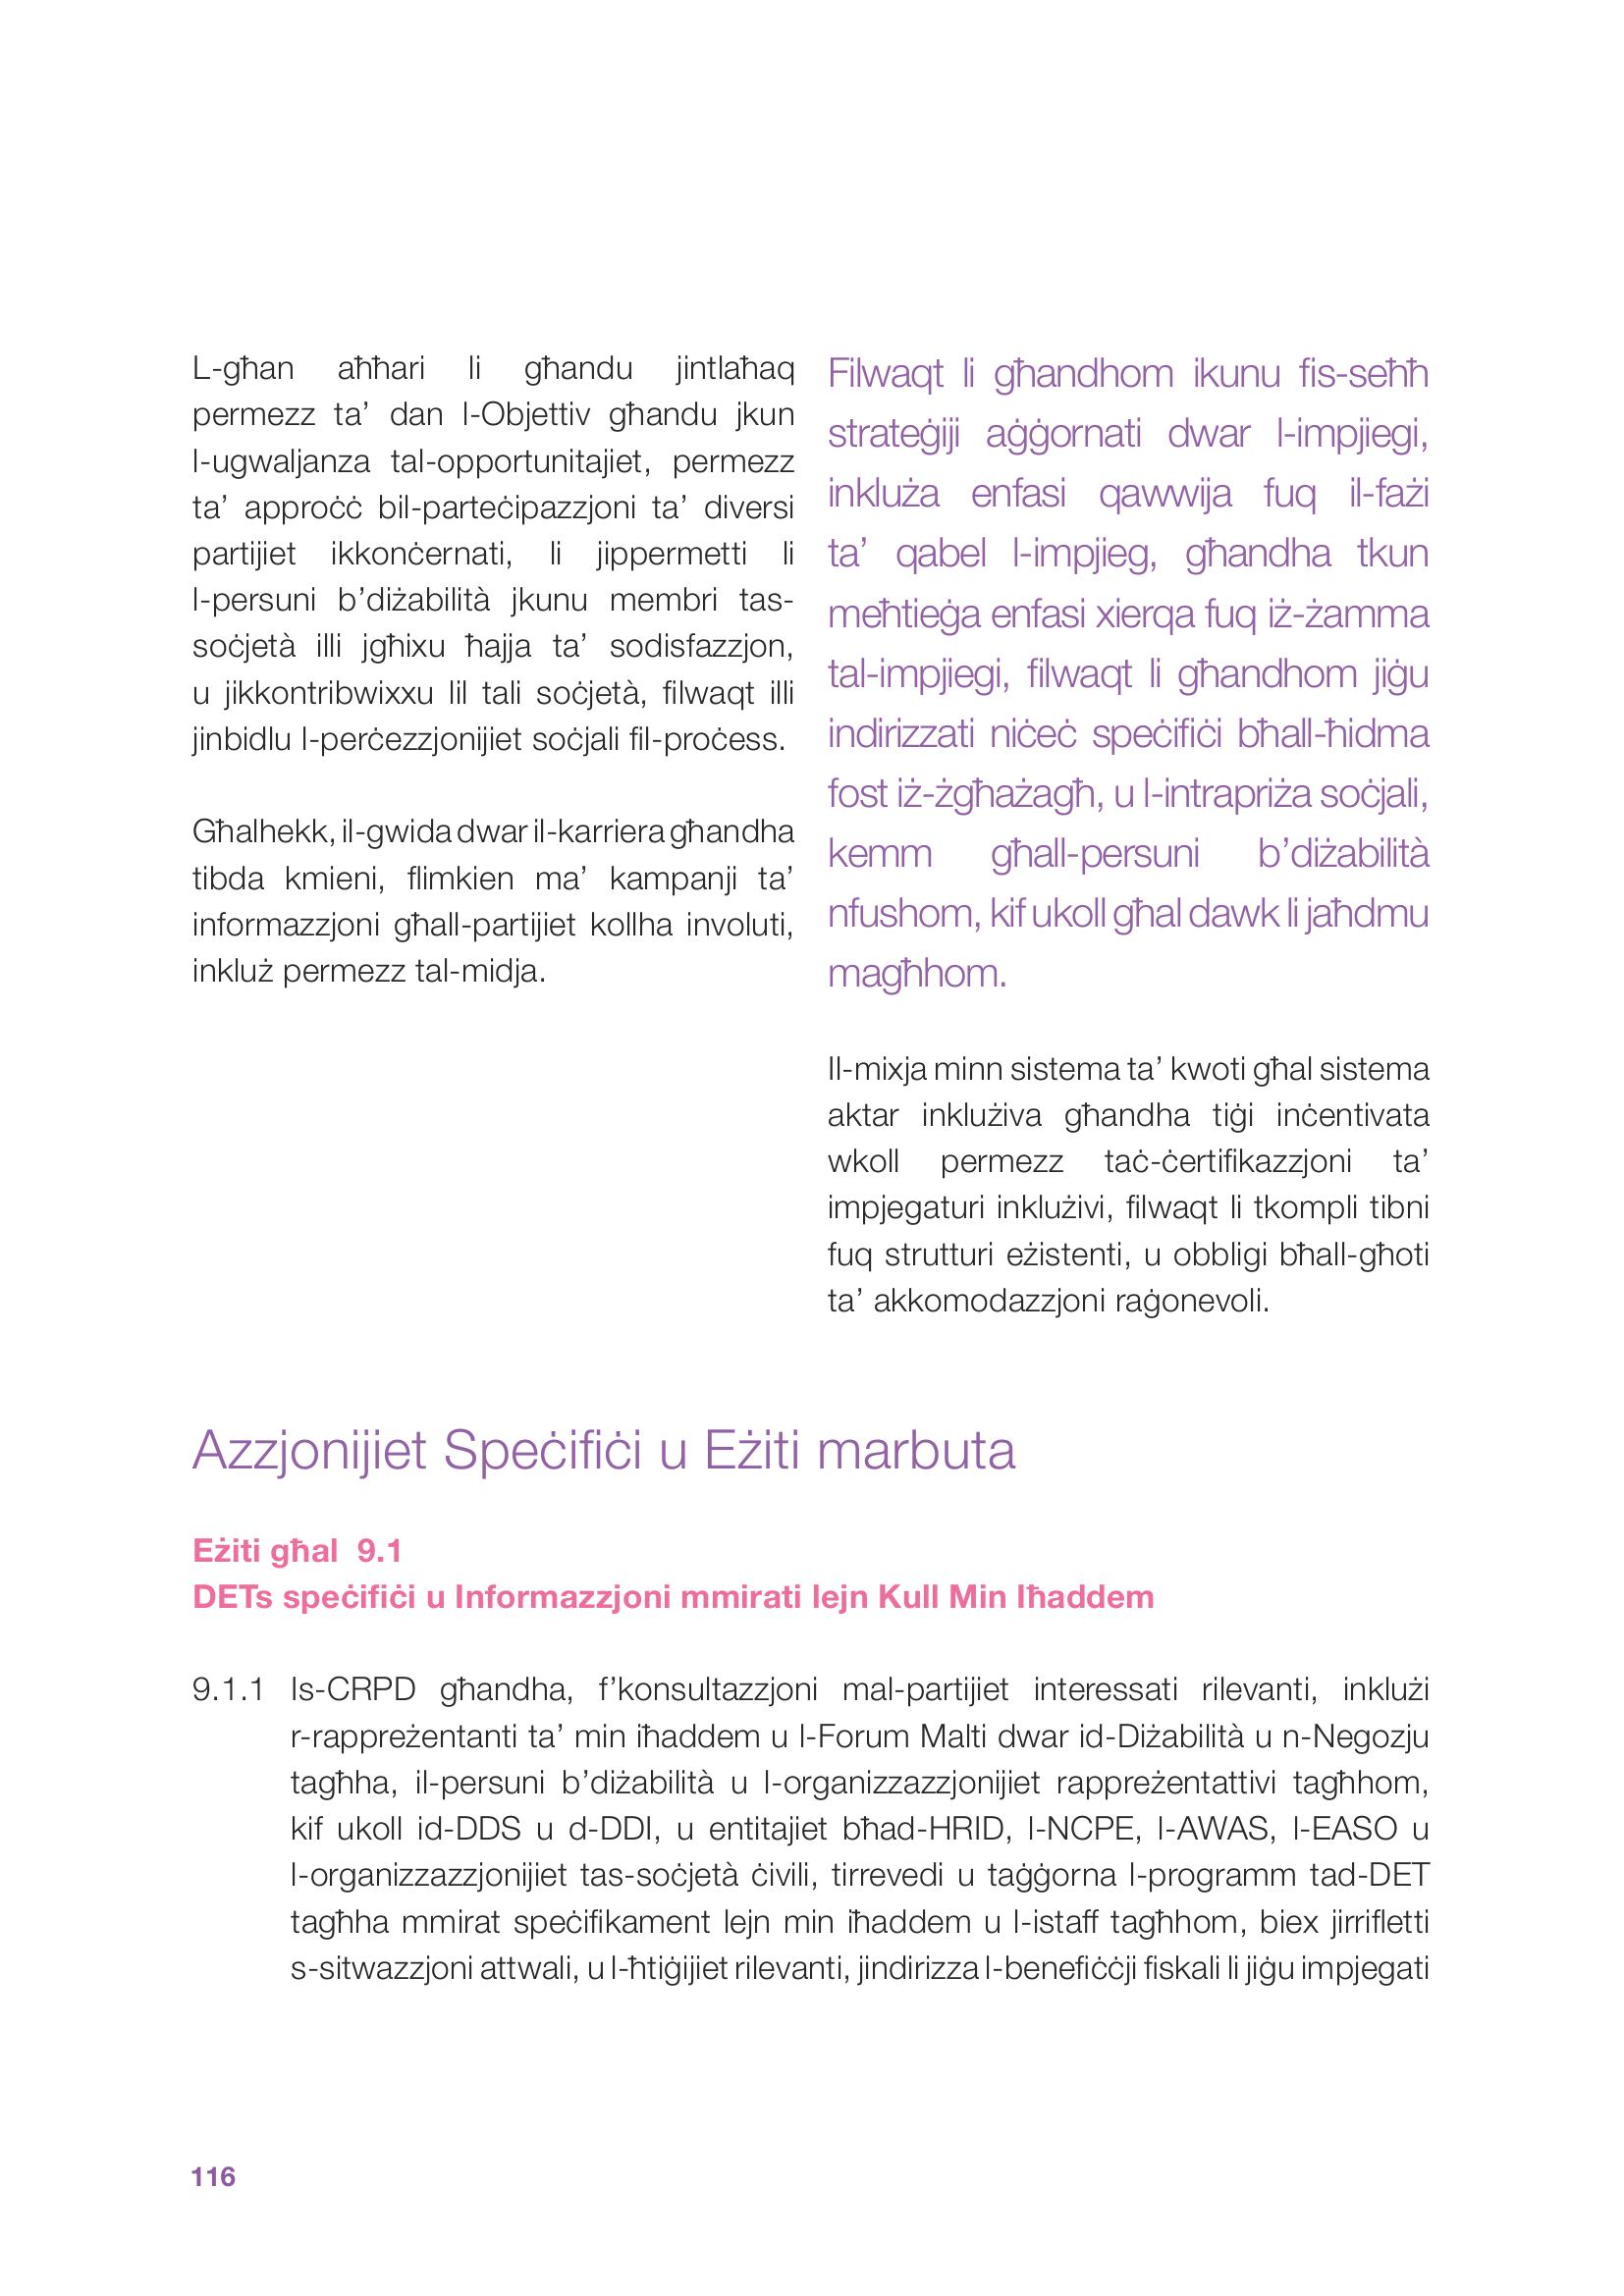text: (158, 1398, 1475, 2015), (808, 336, 1454, 1340), (165, 339, 807, 1003)
